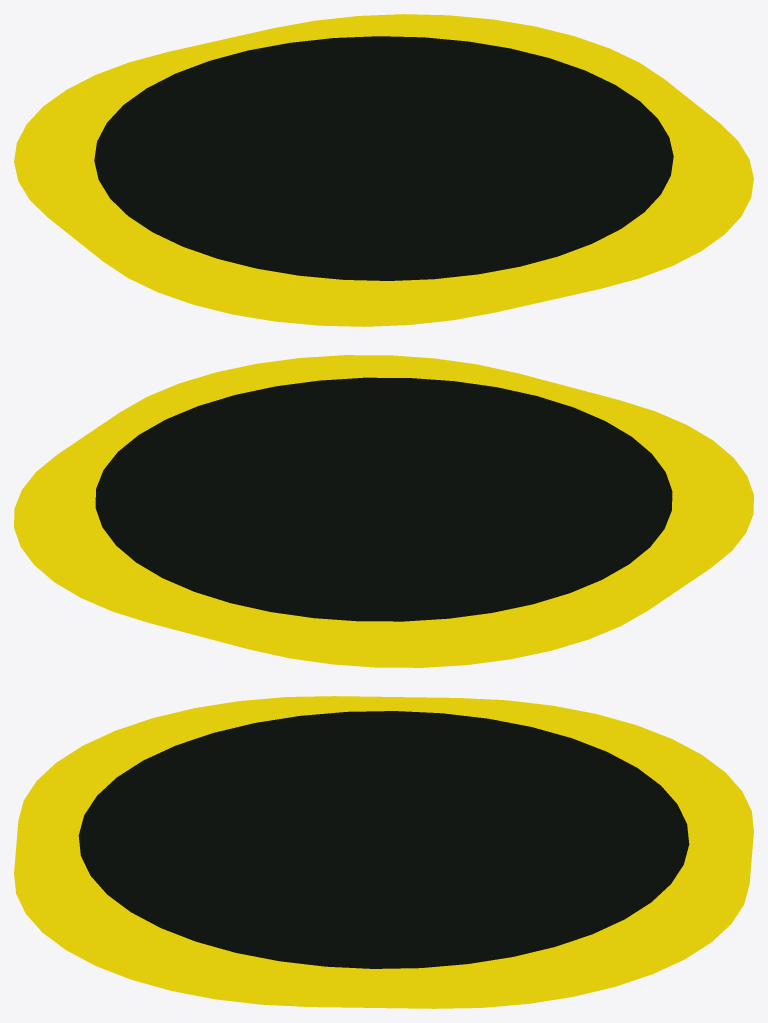
File: hole.fbx
3 renders of one model, top to bottom at view 1: azimuth 30°, elevation 25°; view 2: azimuth 150°, elevation 25°; view 3: azimuth 270°, elevation 25°, orthographic. The views are drawn at different scales.
Parts seen in each view (by area): view 1: Plane.001; view 2: Plane.001; view 3: Plane.001.
Part boxes in pixels (x1,y1,x2,y2): Plane.001: (14,14,753,326); Plane.001: (14,355,753,667); Plane.001: (14,696,753,1008).
Size of the model in its own units: 39.51 by 0.7369 by 39.51.
